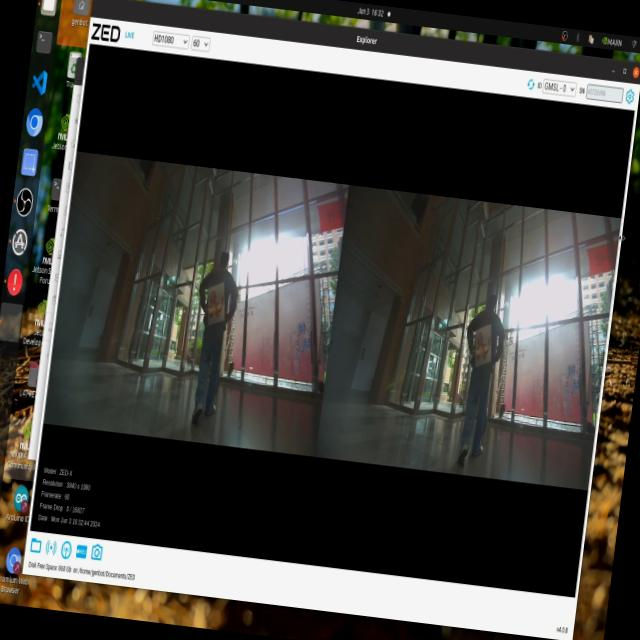red: (468, 324, 496, 368), (206, 285, 232, 322)
